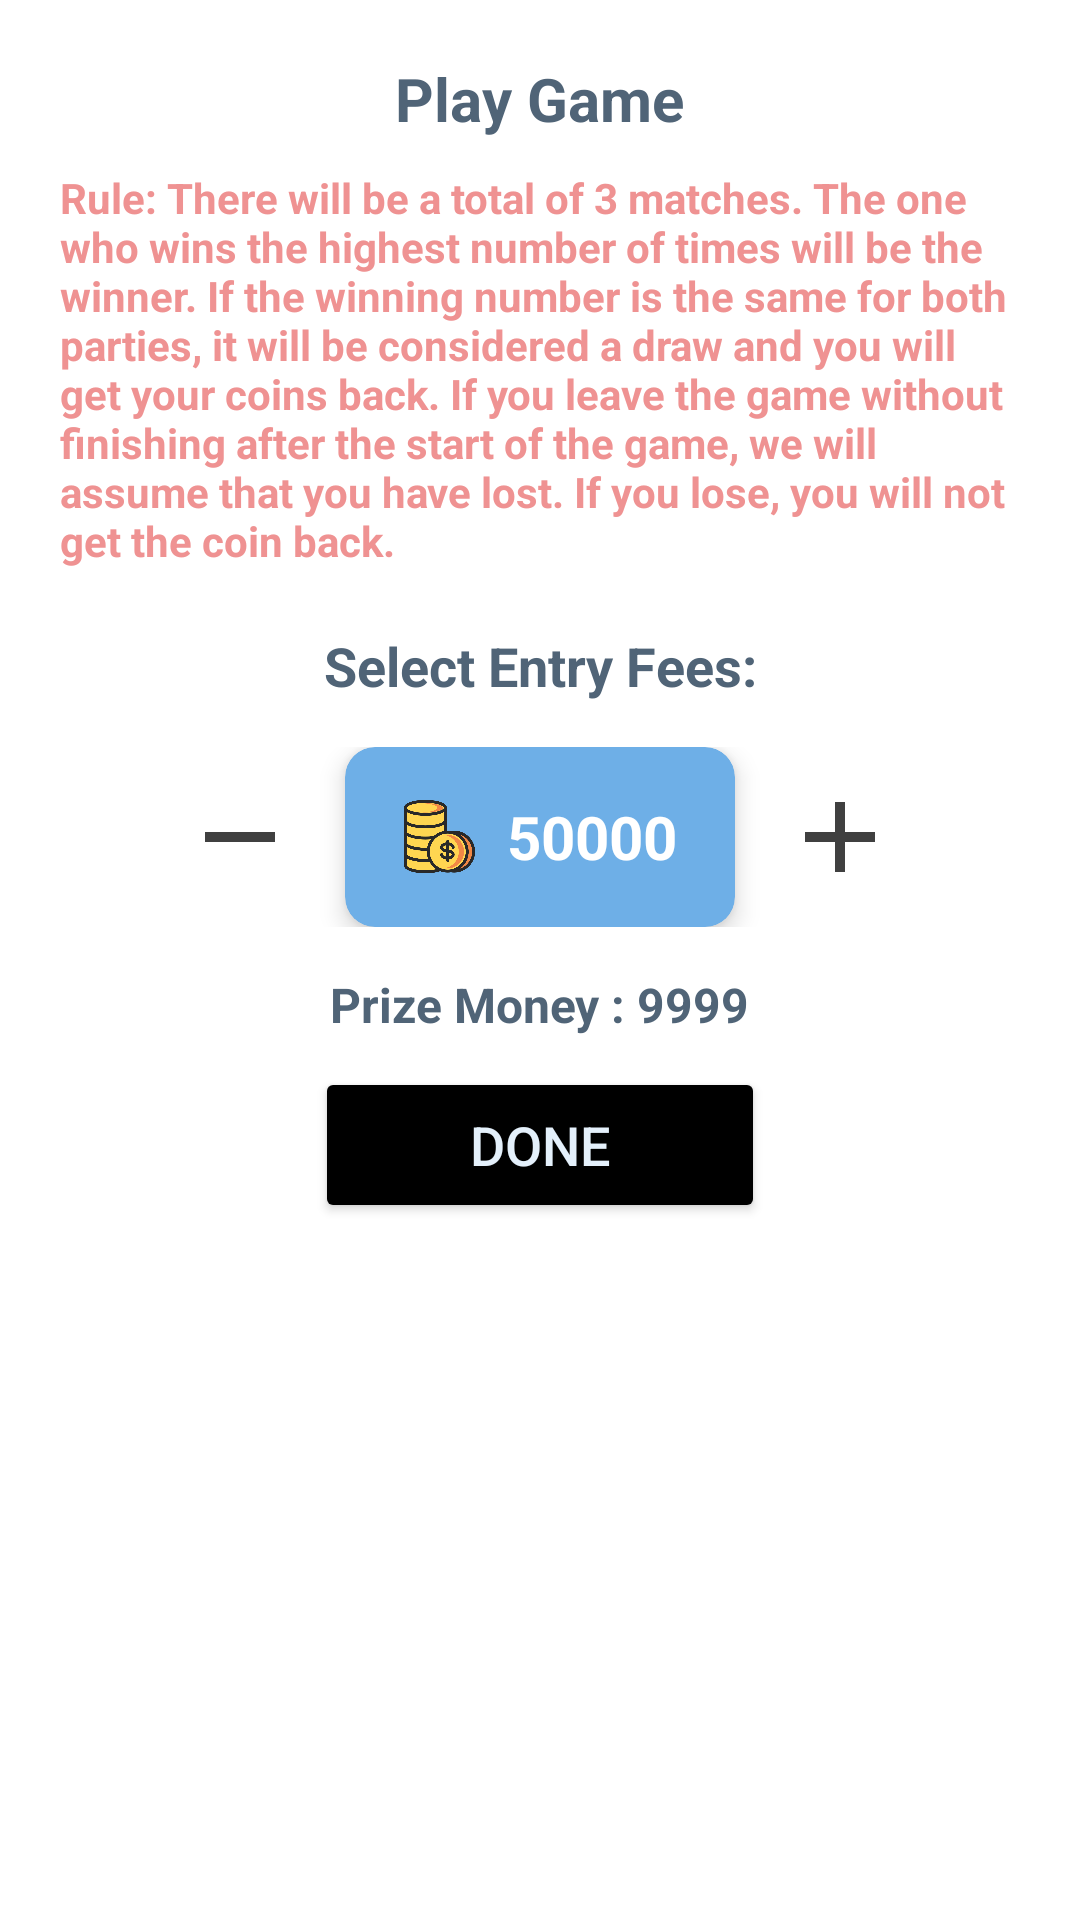

Where icons sit on this 1080*1920 app screen, as [x1,y1,x2,y2]:
coin: [404,800,475,873]
plus: [805,802,875,872]
